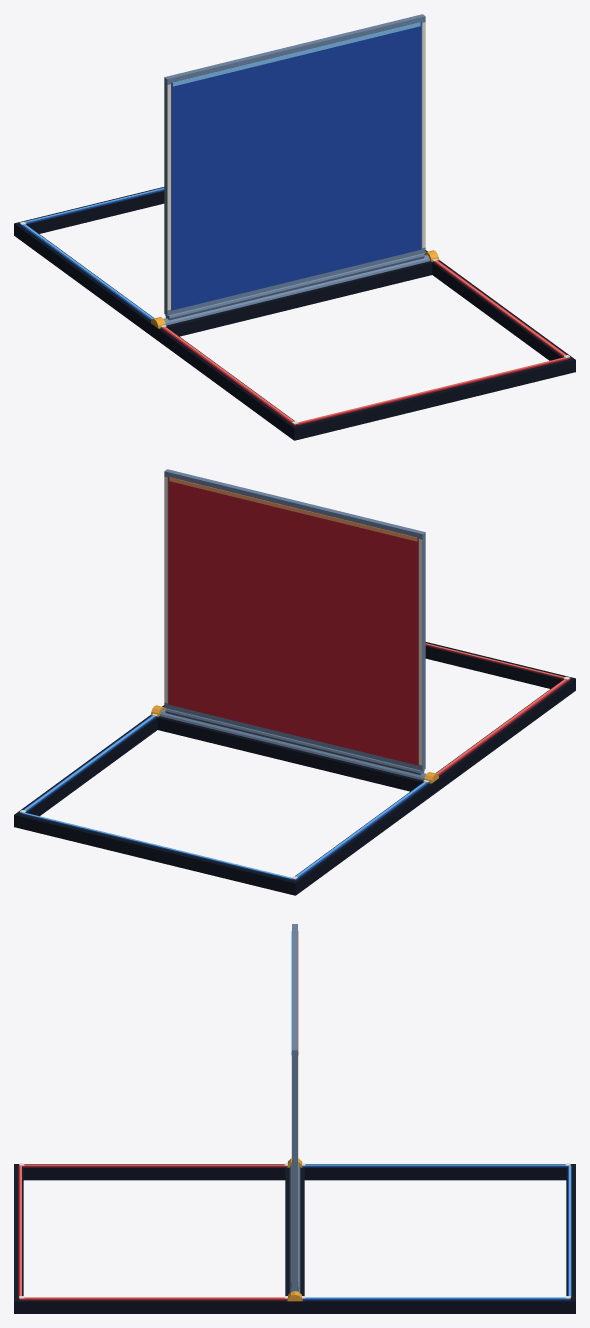
The model's file is jump_flip_pair_flip_12.obj.
3 views of the same model, one above another, from view 1: azimuth 30°, elevation 25°; view 2: azimuth 150°, elevation 25°; view 3: azimuth 270°, elevation 25° (orthographic).
Parts seen in each view (by area): view 1: blue_top, red_end_shell, reversible_leaf, red_side_shell, blue_side_shell, blue_end_shell, blue_side_trim, red_border, leaf_hinge, red_rim_light, hinge_axle, blue_end_bar (+2 smaller); view 2: red_bottom, blue_end_shell, reversible_leaf, blue_side_shell, red_side_shell, red_end_shell, red_side_trim, leaf_hinge, blue_rim_light, blue_border, hinge_axle, red_end_bar (+2 smaller); view 3: red_side_shell, blue_side_shell, reversible_leaf, red_end_shell, blue_end_shell, red_border, blue_border, blue_rim_light, red_rim_light, leaf_hinge, hinge_axle.
Part boxes in pixels (left/top/right/bottom): blue_top: left=171, top=22, right=421, bottom=310; red_end_shell: left=154, top=260, right=575, bottom=439; reversible_leaf: left=164, top=14, right=425, bottom=315; red_side_shell: left=154, top=260, right=575, bottom=440; blue_side_shell: left=14, top=221, right=427, bottom=337; blue_end_shell: left=14, top=187, right=164, bottom=337; blue_side_trim: left=167, top=22, right=425, bottom=310; red_border: left=160, top=260, right=570, bottom=425; leaf_hinge: left=165, top=253, right=424, bottom=320; red_rim_light: left=163, top=260, right=565, bottom=423; hinge_axle: left=163, top=254, right=429, bottom=325; blue_end_bar: left=172, top=22, right=420, bottom=86; red_bottom: left=168, top=477, right=418, bottom=765; blue_end_shell: left=14, top=715, right=435, bottom=894; reversible_leaf: left=164, top=469, right=425, bottom=770; blue_side_shell: left=14, top=715, right=435, bottom=895; red_side_shell: left=162, top=676, right=575, bottom=791; red_end_shell: left=425, top=642, right=575, bottom=781; red_side_trim: left=164, top=477, right=422, bottom=765; leaf_hinge: left=165, top=708, right=424, bottom=775; blue_rim_light: left=23, top=715, right=426, bottom=879; blue_border: left=19, top=715, right=429, bottom=880; hinge_axle: left=160, top=709, right=426, bottom=780; red_end_bar: left=169, top=477, right=417, bottom=541; red_side_shell: left=14, top=1164, right=294, bottom=1313; blue_side_shell: left=295, top=1164, right=575, bottom=1313; reversible_leaf: left=292, top=924, right=297, bottom=1287; red_end_shell: left=14, top=1164, right=294, bottom=1313; blue_end_shell: left=295, top=1164, right=575, bottom=1313; red_border: left=18, top=1166, right=287, bottom=1300; blue_border: left=302, top=1166, right=571, bottom=1300; blue_rim_light: left=305, top=1164, right=571, bottom=1298; red_rim_light: left=20, top=1164, right=284, bottom=1298; leaf_hinge: left=290, top=1163, right=299, bottom=1291; hinge_axle: left=289, top=1166, right=300, bottom=1292.
Size of the model in its own units: 11.6 by 10.12 by 20.
